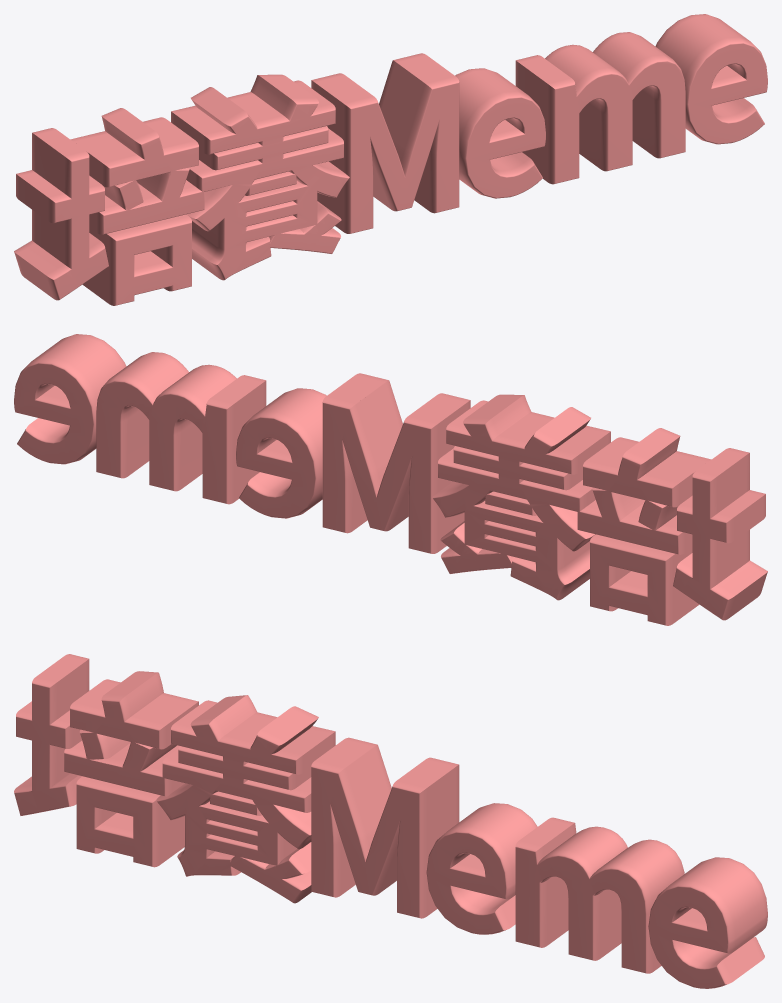
Rendered from Project Name.glb.
The picture shows the model from 3 angles, top to bottom: view 1: azimuth 30°, elevation 25°; view 2: azimuth 150°, elevation 25°; view 3: azimuth 330°, elevation 25°; orthographic projection.
Parts seen in each view (by area): view 1: 3D Text; view 2: 3D Text; view 3: 3D Text.
Boxes of the visible parts, box(x1,y1,x2,y2) form: 3D Text: box(14, 14, 767, 305); 3D Text: box(14, 334, 767, 625); 3D Text: box(14, 654, 767, 988).
Bounding box in the file's own units: 0.3089 × 0.0672 × 0.0295.
